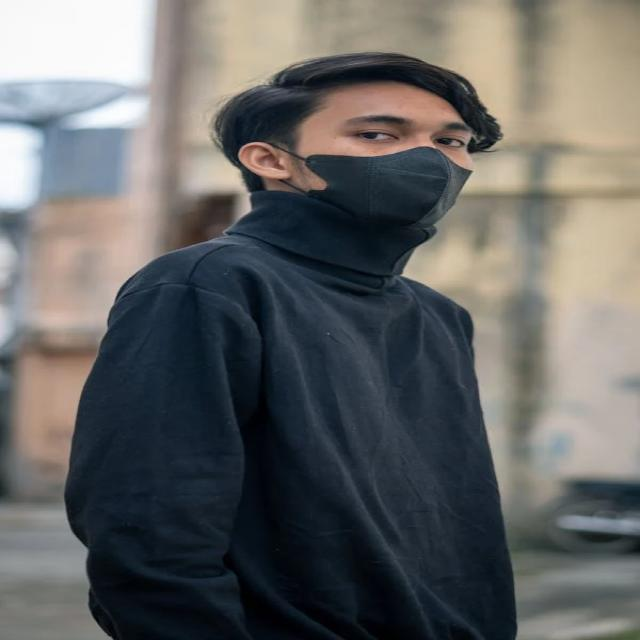mask: (206, 54, 532, 249)
